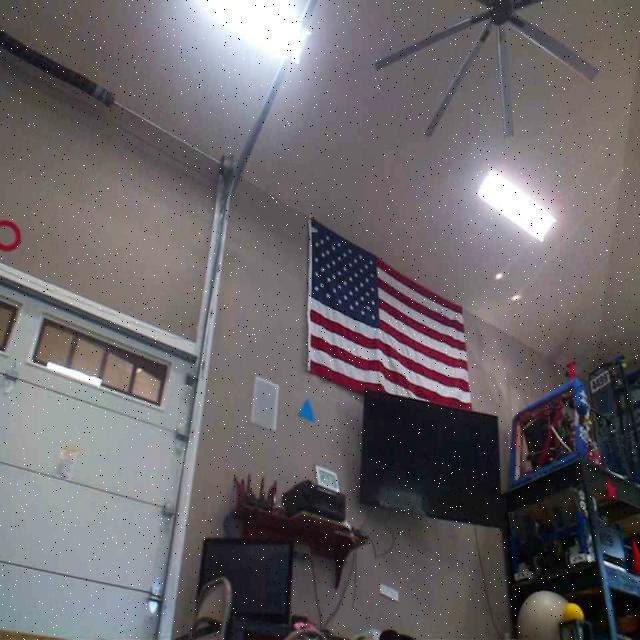ring_red: (0, 218, 22, 252)
triangle_blue: (296, 398, 315, 422)
